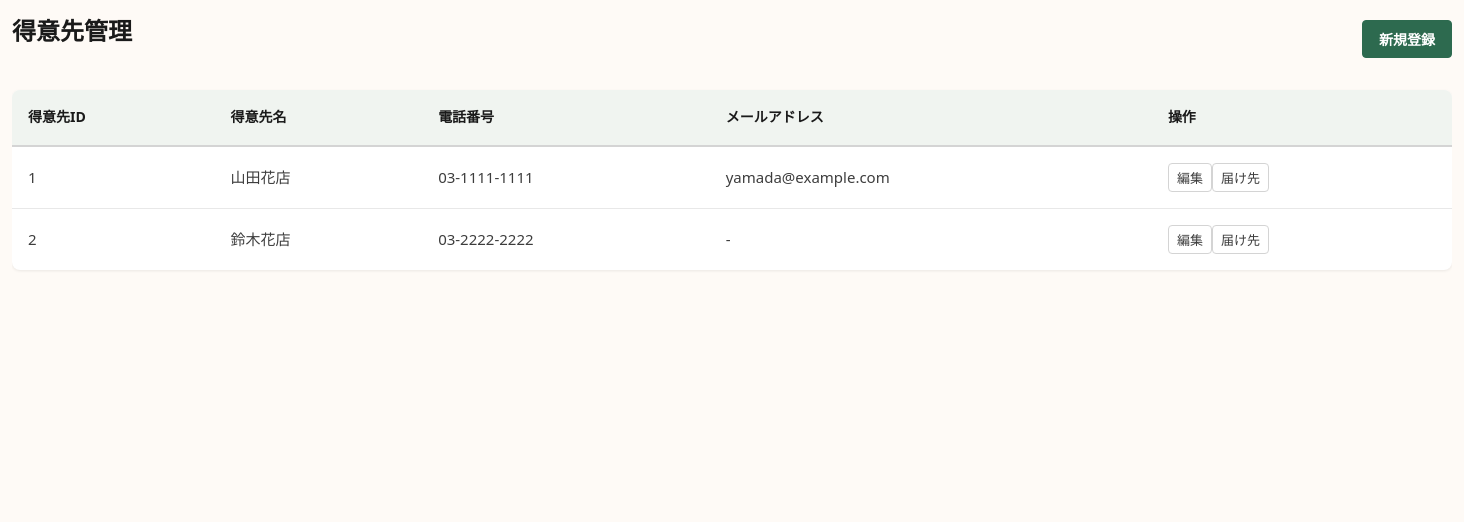
it: CustomerManagement › 届け先ボタンで届け先一覧が表示される
Check: the text "山田花店" is shown, box [215,146,422,208]
Click the button "届け先" in the row of "山田花店" at (1240, 177), box [1212,163,1269,192]
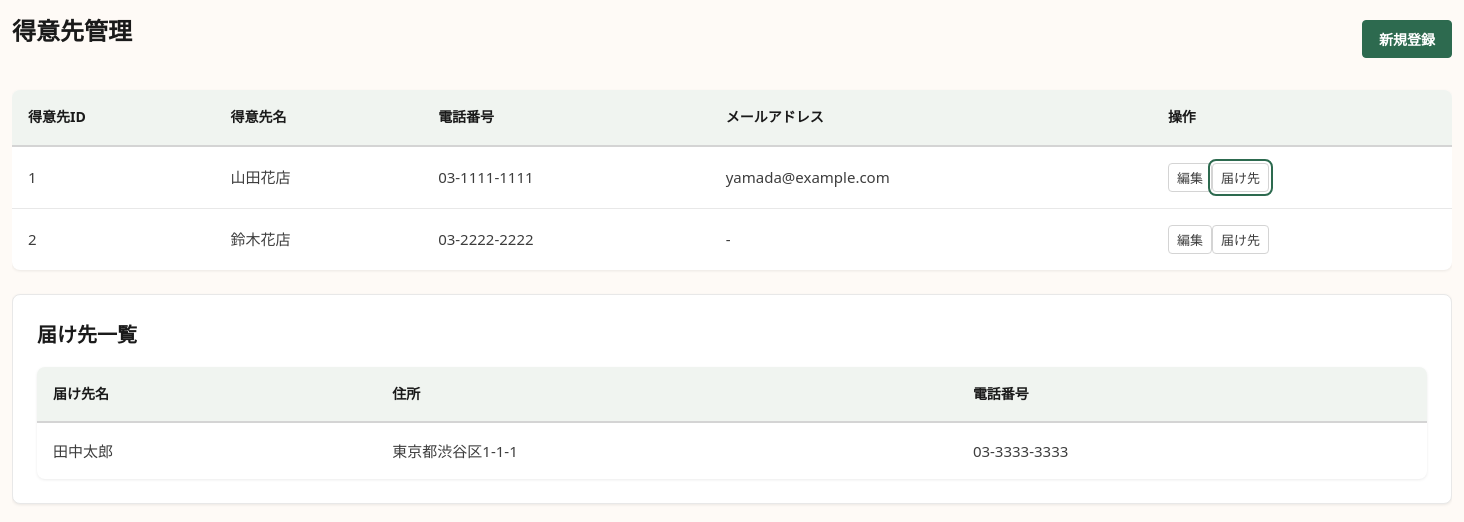
Check: the text "田中太郎" is shown, box [37,422,376,479]
Check: the text "東京都渋谷区1-1-1" is shown, box [376,422,957,479]
